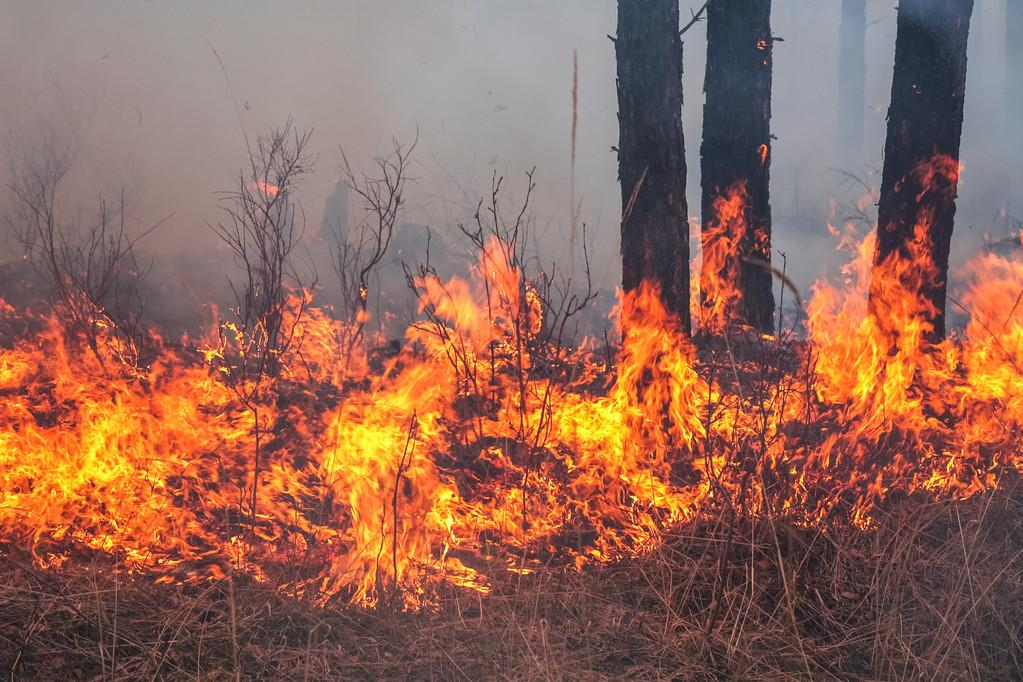fire: (3, 288, 751, 590), (790, 236, 1023, 503), (688, 199, 741, 331)
